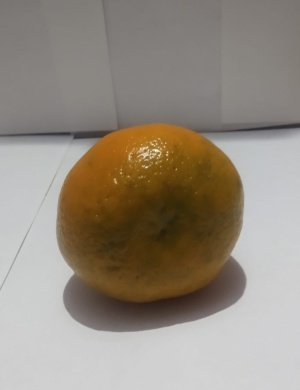BAD: (52, 122, 252, 308)
